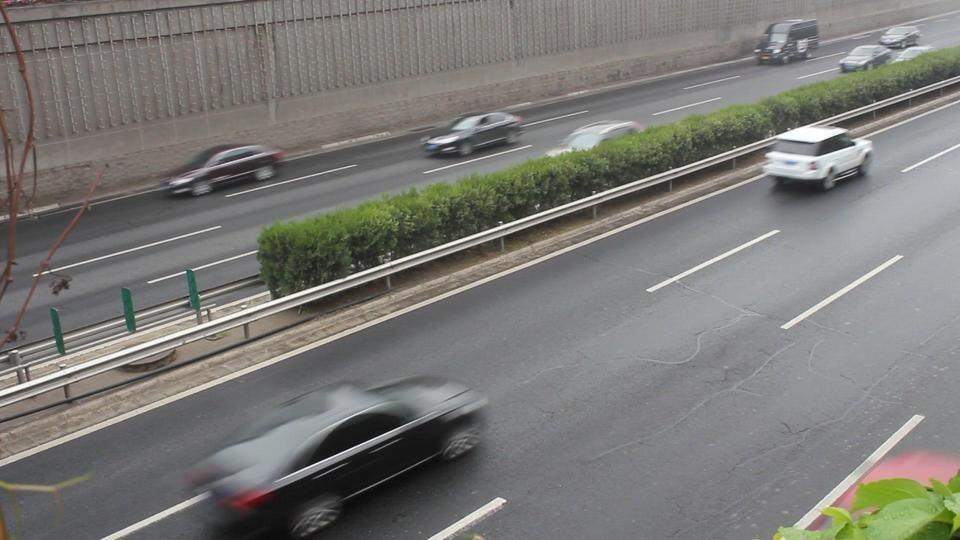car: (179, 373, 491, 537), (763, 124, 876, 191), (160, 144, 285, 198), (423, 111, 525, 157), (548, 119, 645, 152), (754, 19, 818, 65), (839, 45, 897, 73), (880, 24, 921, 48)
